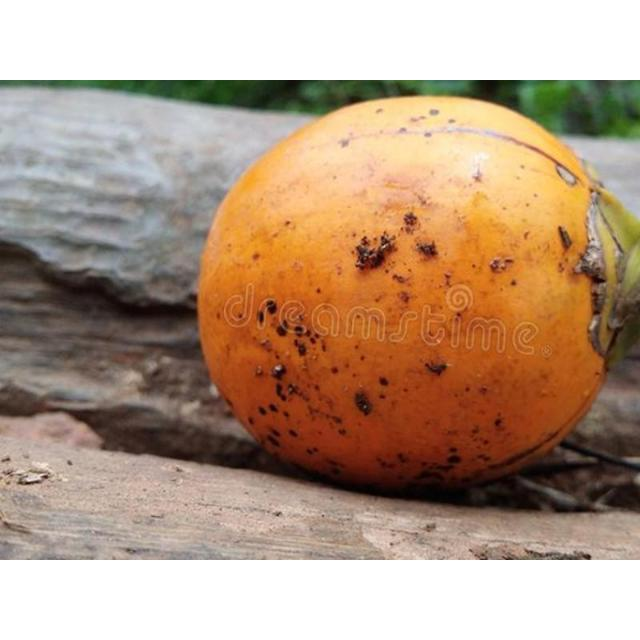good: (196, 94, 636, 494)
